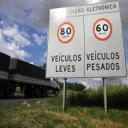speed_limit_60: (92, 18, 113, 41)
speed_limit_80: (57, 22, 75, 44)
